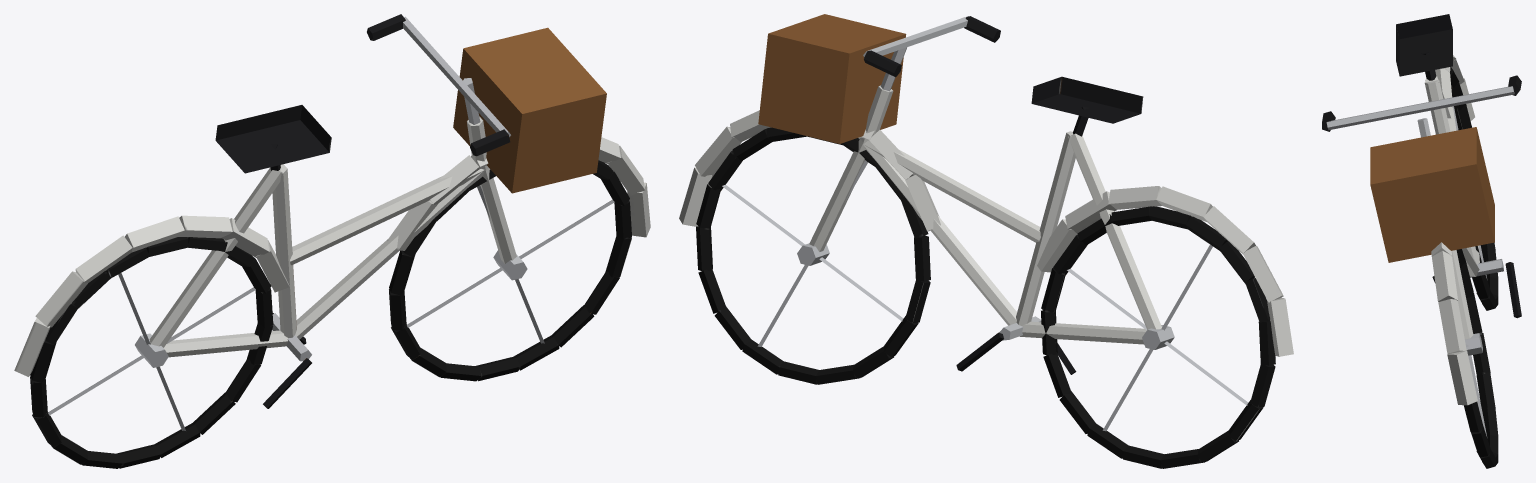
Rendered from kolo_180d54e0.glb.
3 renders of one model, left to right at view 1: azimuth 30°, elevation 25°; view 2: azimuth 150°, elevation 25°; view 3: azimuth 270°, elevation 25°, orthographic. The views are drawn at different scales.
Parts seen in each view (by area): view 1: dum; view 2: dum; view 3: dum.
Part boxes in pixels (x1,y1,x2,y2): dum: (14, 14, 650, 468); dum: (679, 14, 1293, 468); dum: (1322, 14, 1521, 468).
Size of the model in its own units: 1.95 by 1.09 by 0.5868.
Materials: 1 (1 with a texture image).
